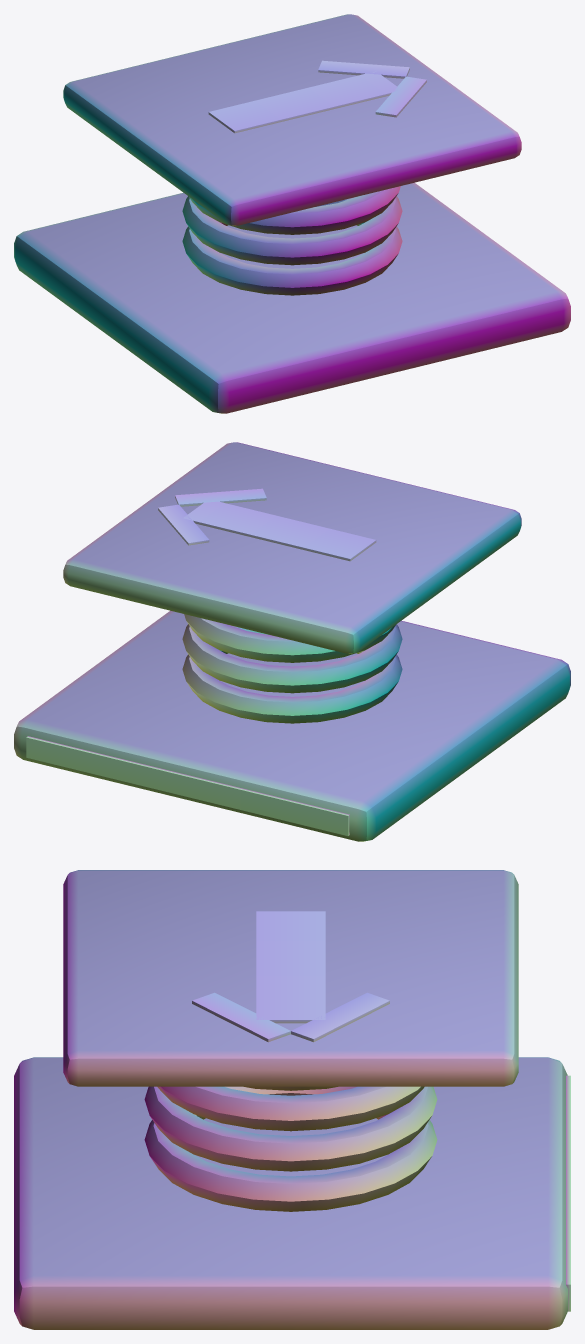
File: prop_pad.glb
3 views of the same model, one above another, from view 1: azimuth 30°, elevation 25°; view 2: azimuth 150°, elevation 25°; view 3: azimuth 270°, elevation 25° (orthographic). The views are drawn at different scales.
Visible parts, largest first — view 1: pad_base, top; view 2: pad_base, top; view 3: pad_base, top.
Part boxes in pixels (bbox=[...]): pad_base: bbox=[14, 182, 570, 413]; top: bbox=[63, 14, 521, 225]; pad_base: bbox=[14, 610, 570, 841]; top: bbox=[63, 442, 521, 653]; pad_base: bbox=[14, 1057, 570, 1329]; top: bbox=[63, 870, 518, 1086].
Size of the model in its own units: 0.56 by 0.2935 by 0.563.
